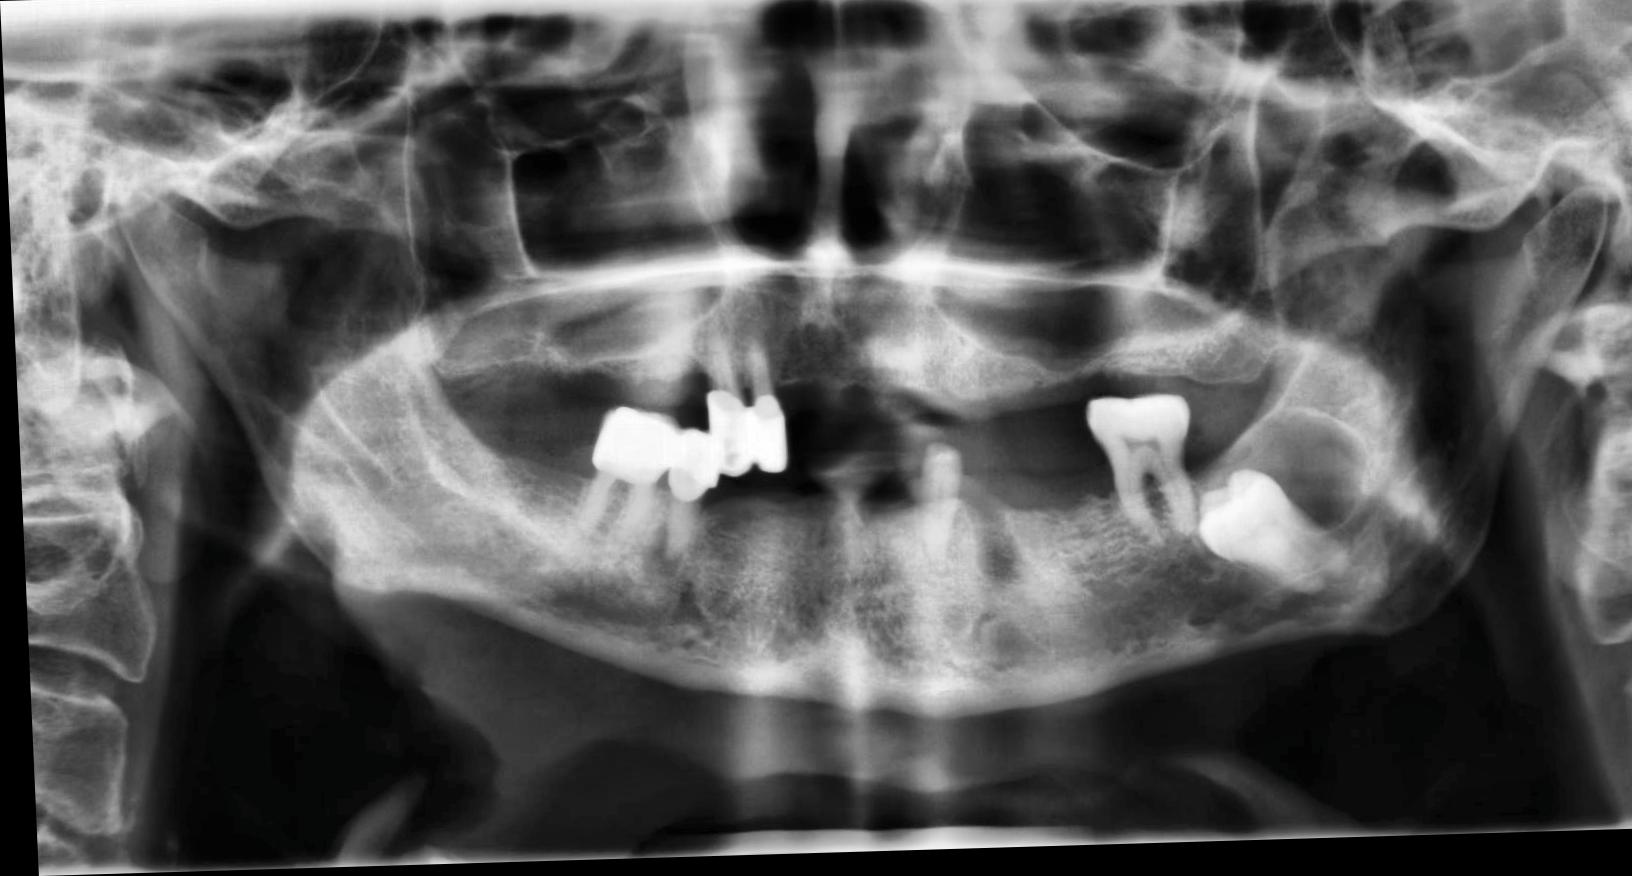dentigeroz: (1187, 413, 1371, 547)
radikuler: (628, 529, 684, 588)
